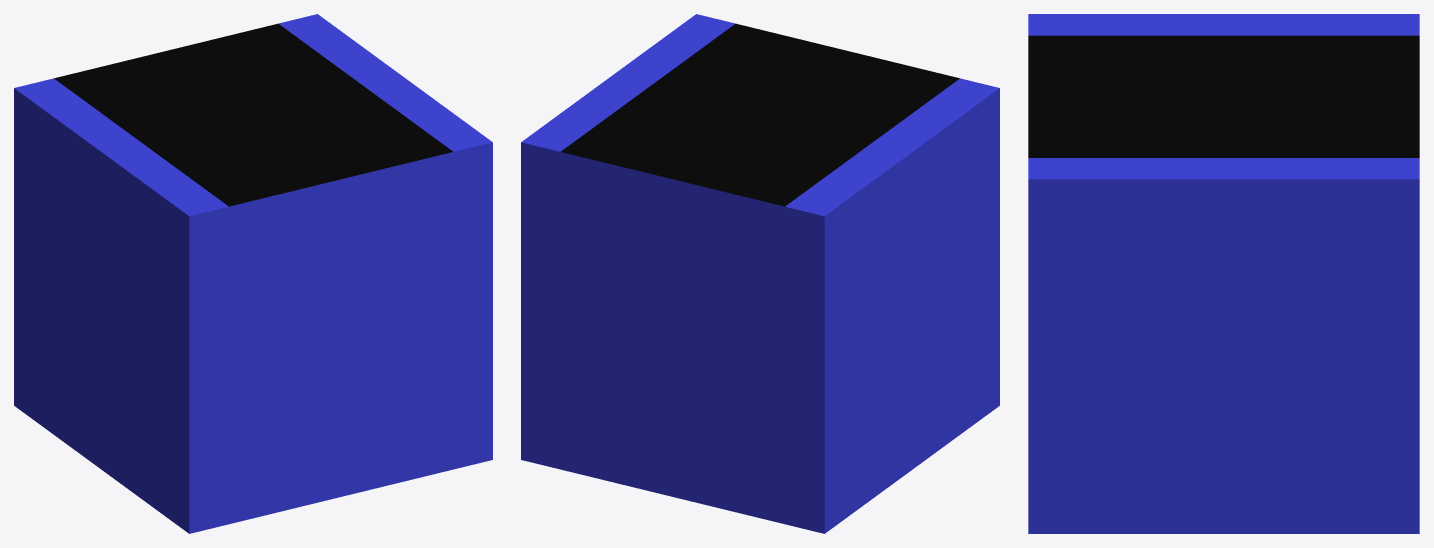
Rendered from Straight Wall.fbx.
3 views of the same model, side by side, from view 1: azimuth 30°, elevation 25°; view 2: azimuth 150°, elevation 25°; view 3: azimuth 270°, elevation 25° (orthographic). The views are drawn at different scales.
Visible parts, largest first — view 1: Cube; view 2: Cube; view 3: Cube.
Part boxes in pixels (bbox=[...]): Cube: bbox=[14, 14, 492, 533]; Cube: bbox=[521, 14, 999, 533]; Cube: bbox=[1028, 14, 1419, 533].
Size of the model in its own units: 200 by 200 by 200.
